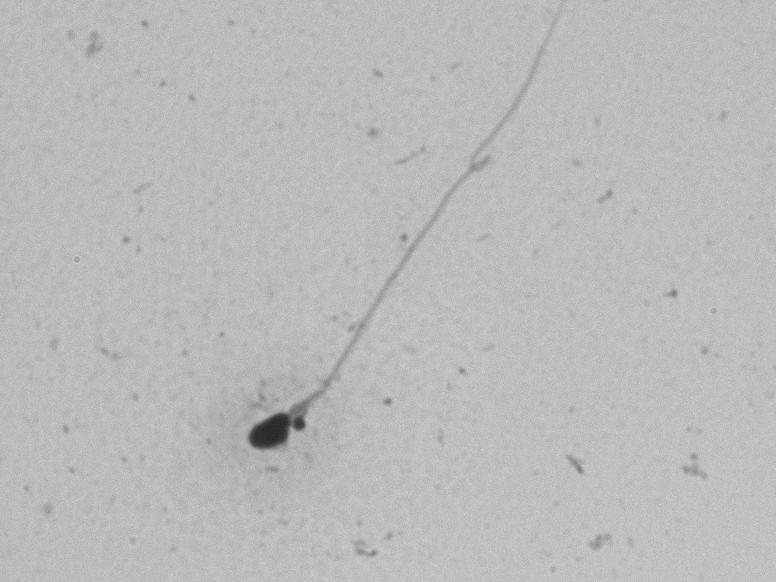Abnormal: (219, 103, 583, 474)
